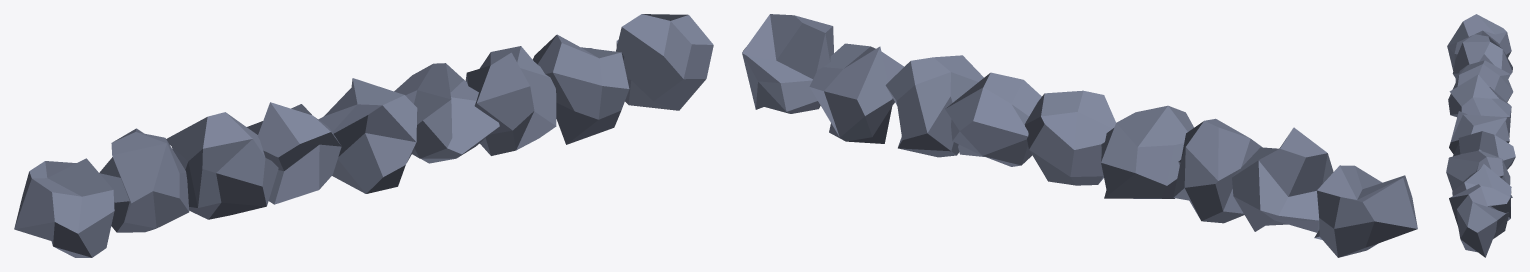
Rendered from Chemin caillou.fbx.
The picture shows the model from 3 angles, left to right: view 1: azimuth 30°, elevation 25°; view 2: azimuth 150°, elevation 25°; view 3: azimuth 270°, elevation 25°; orthographic projection. The views are drawn at different scales.
Visible parts, largest first — view 1: Cube; view 2: Cube; view 3: Cube.
Boxes of the visible parts, box(x1,y1,x2,y2) form: Cube: box(14, 14, 713, 257); Cube: box(742, 14, 1417, 257); Cube: box(1446, 14, 1515, 257).
Bounding box in the file's own units: 218 × 33.91 × 31.61.
